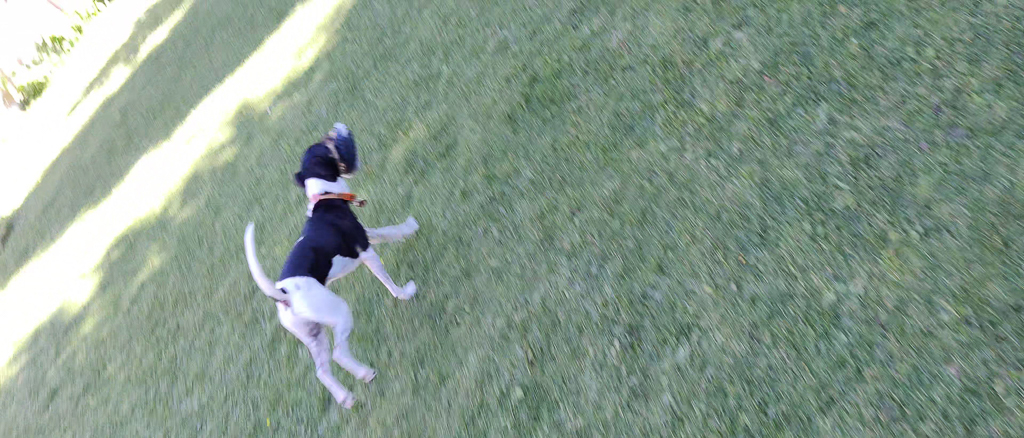Dog: (230, 113, 438, 418)
